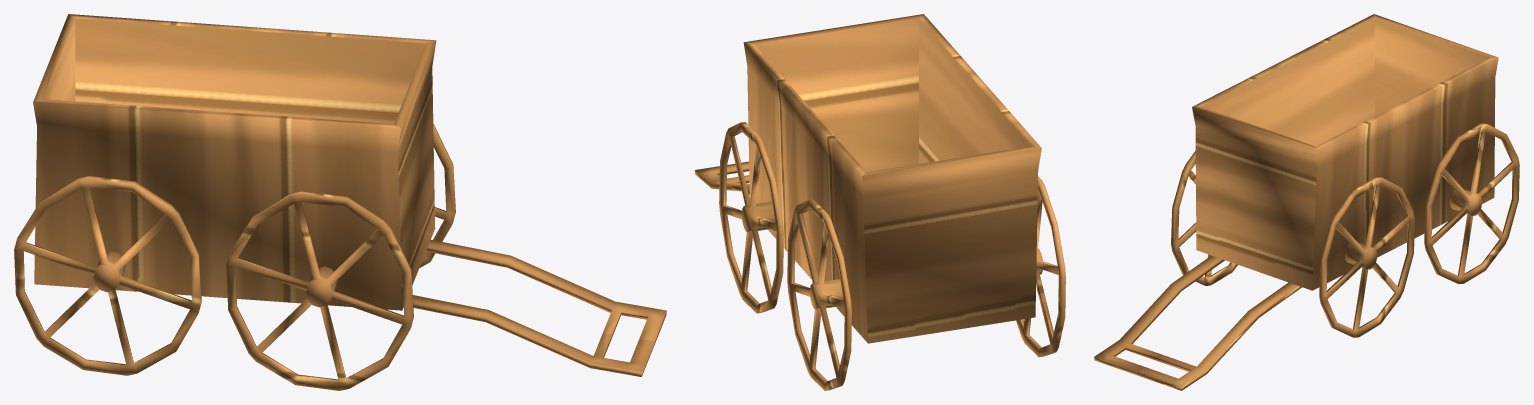
File: kÄRRy5.fbx
3 views of the same model, side by side, from view 1: azimuth 30°, elevation 25°; view 2: azimuth 150°, elevation 25°; view 3: azimuth 270°, elevation 25° (orthographic). The views are drawn at different scales.
Visible parts, largest first — view 1: Cube.002; view 2: Cube.002; view 3: Cube.002.
Part boxes in pixels (x1,y1,x2,y2): Cube.002: (14,14,666,390); Cube.002: (695,14,1065,390); Cube.002: (1094,14,1519,390).
Bounding box in the file's own units: 289 × 134 × 263.
